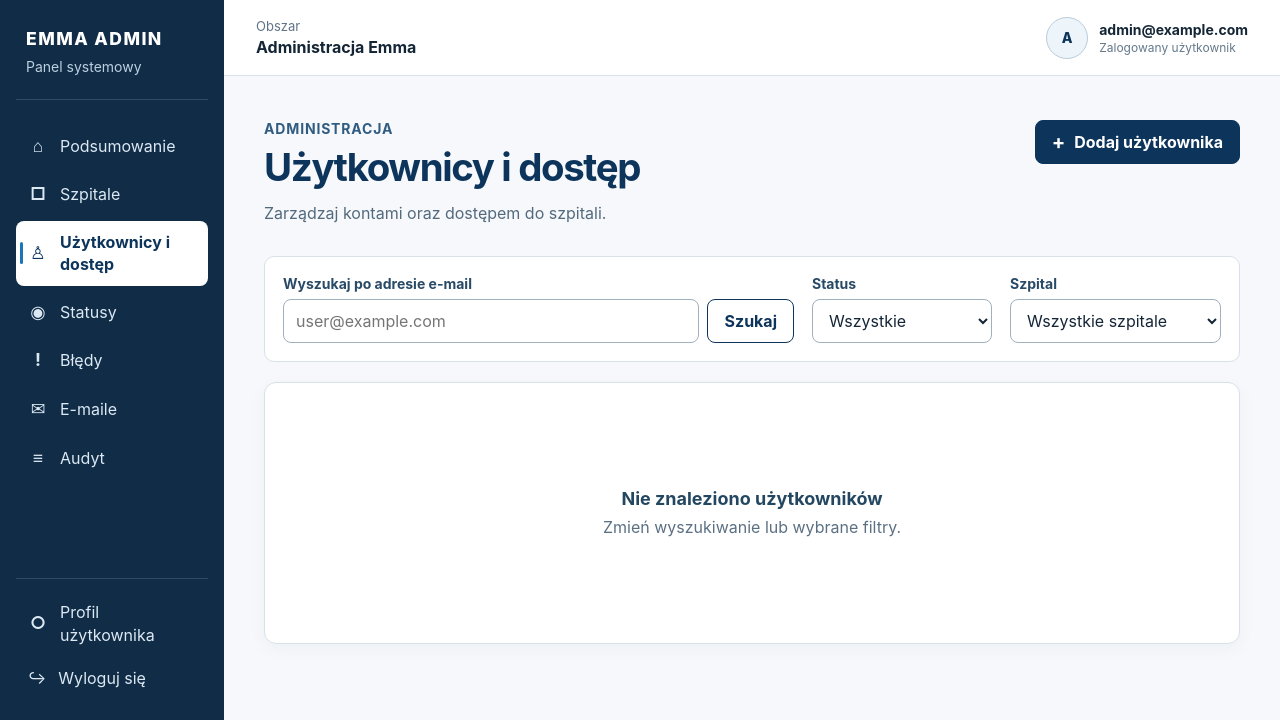
Test: Admin users page › creates a normalized user and refreshes the list
Expected: the text "Nie znaleziono użytkowników" is shown, [621,488,883,510]
Click the button "+ Dodaj użytkownika" at (1137, 142), box [1035,120,1240,164]
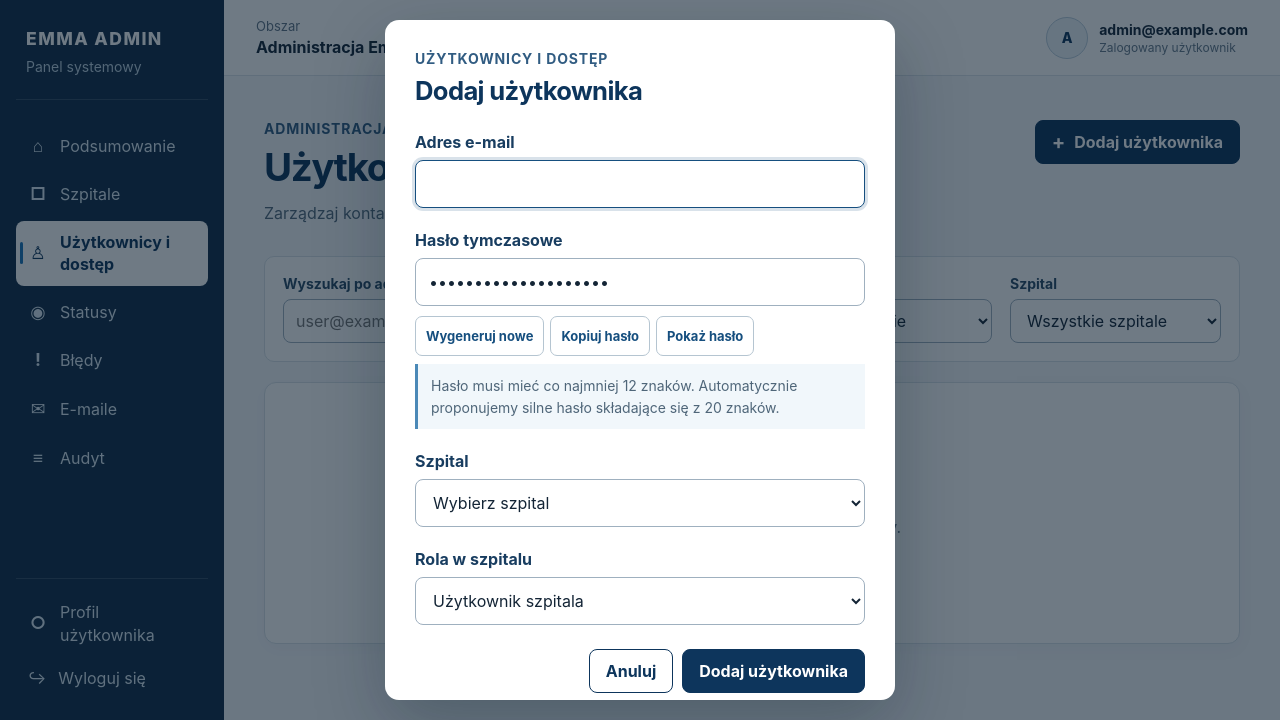
Expected: the text "Hasło musi mieć co najmniej 12 znaków" is shown, [431,377,797,416]
Type " USER@Example.COM " into the field labelled "Adres e-mail" at (640, 184), box [415,160,865,208]
Type "temporary-password" into the password field labelled "Hasło tymczasowe" at (640, 282), box [415,258,865,306]
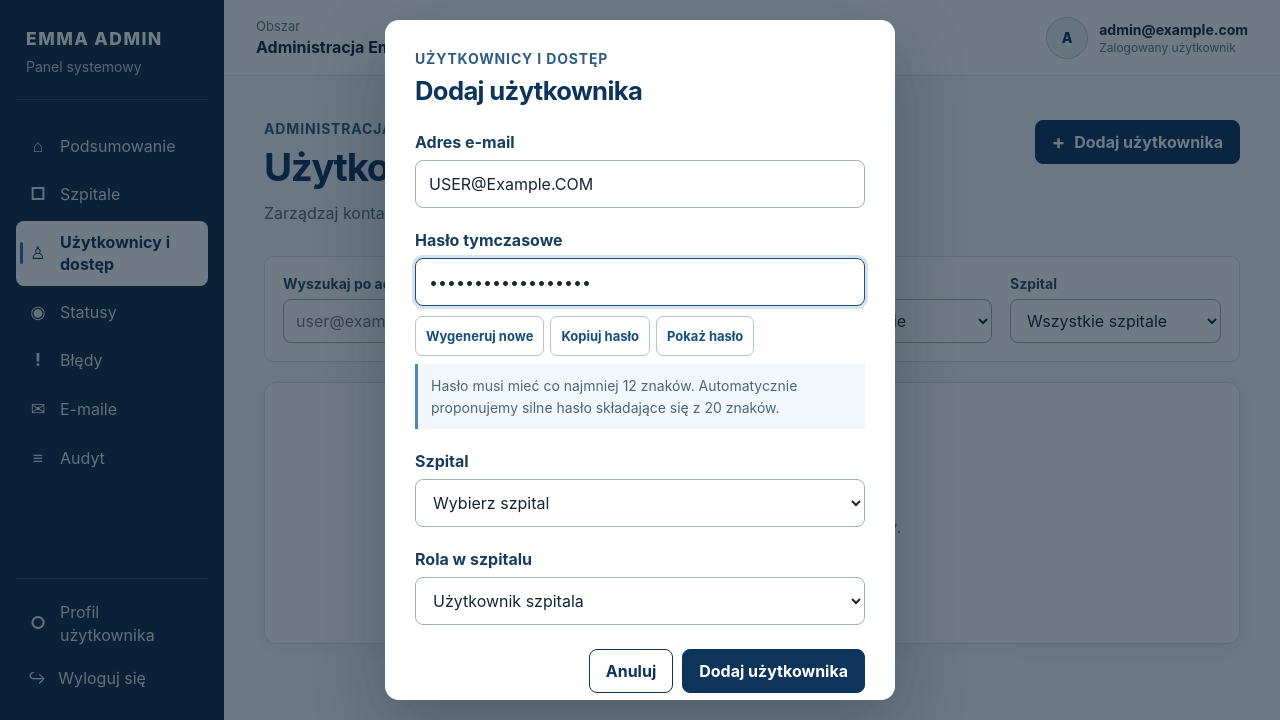
Select "Szpital Testowy" in the dropdown labelled "Szpital" at (640, 503), box [415,479,865,527]
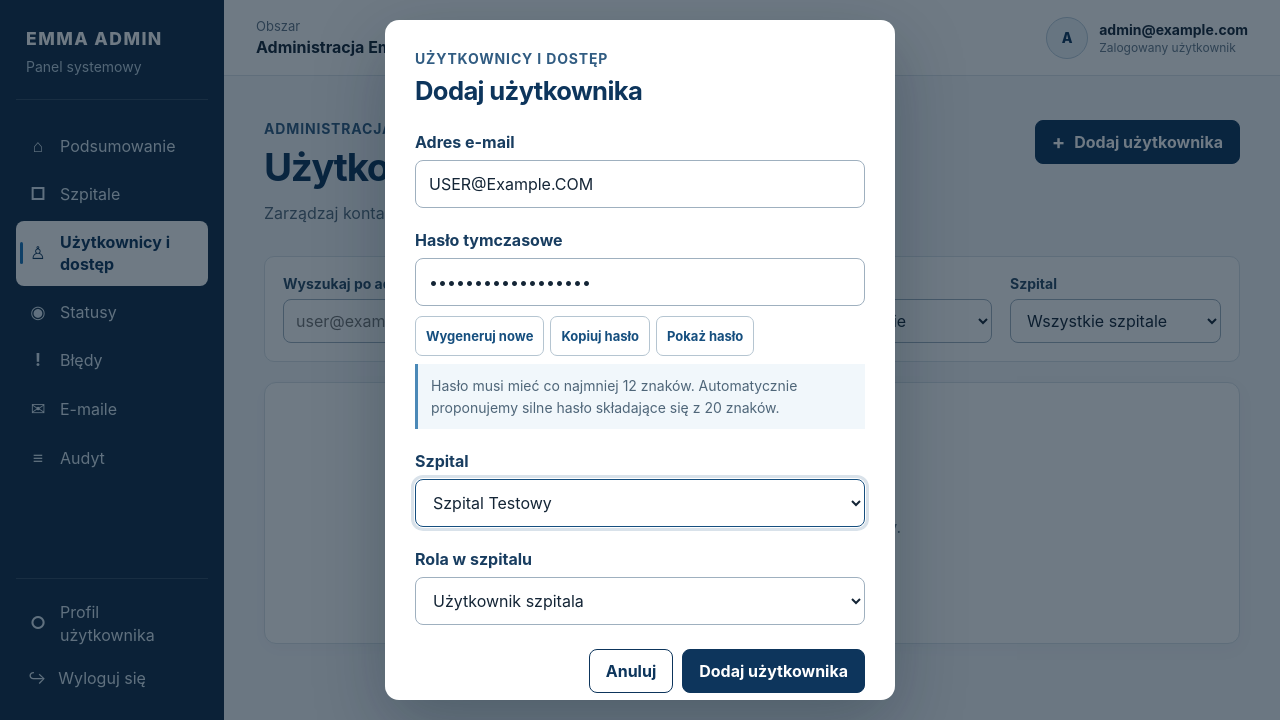
Select "Użytkownik szpitala" in the dropdown labelled "Rola w szpitalu" at (640, 601), box [415,577,865,625]
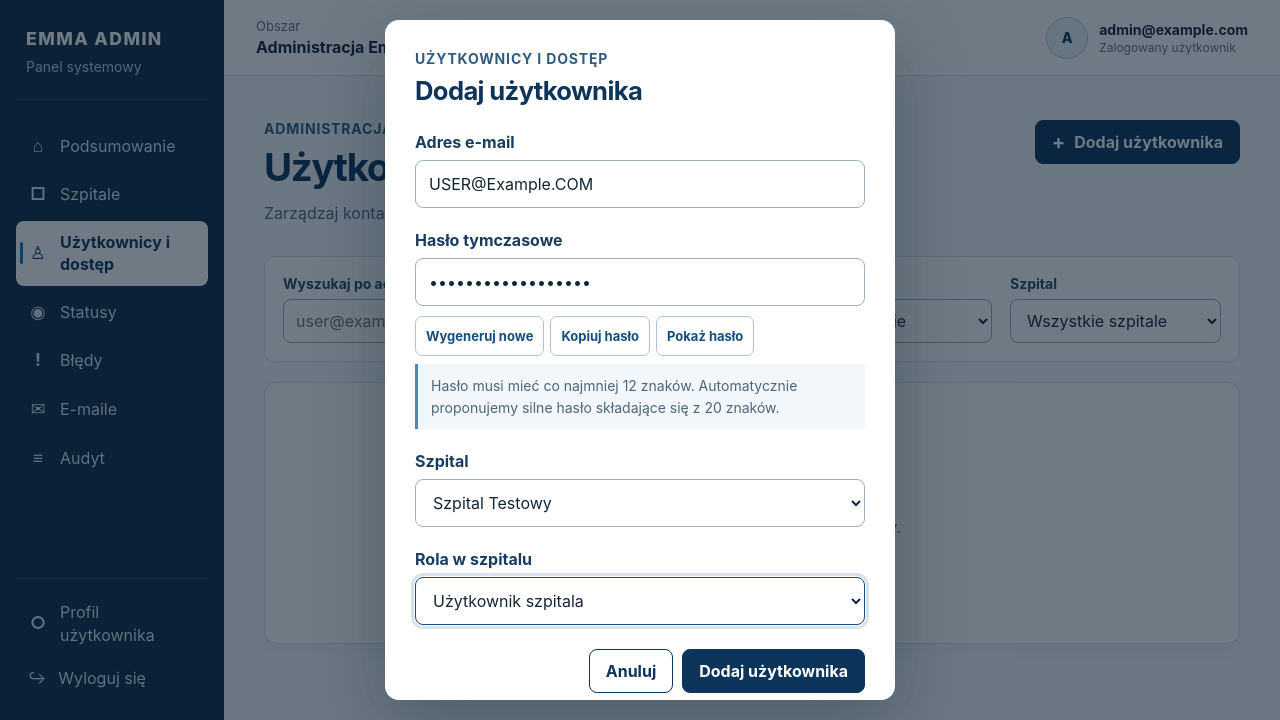
Click the button "Dodaj użytkownika" at (774, 671), box [682,649,865,693]
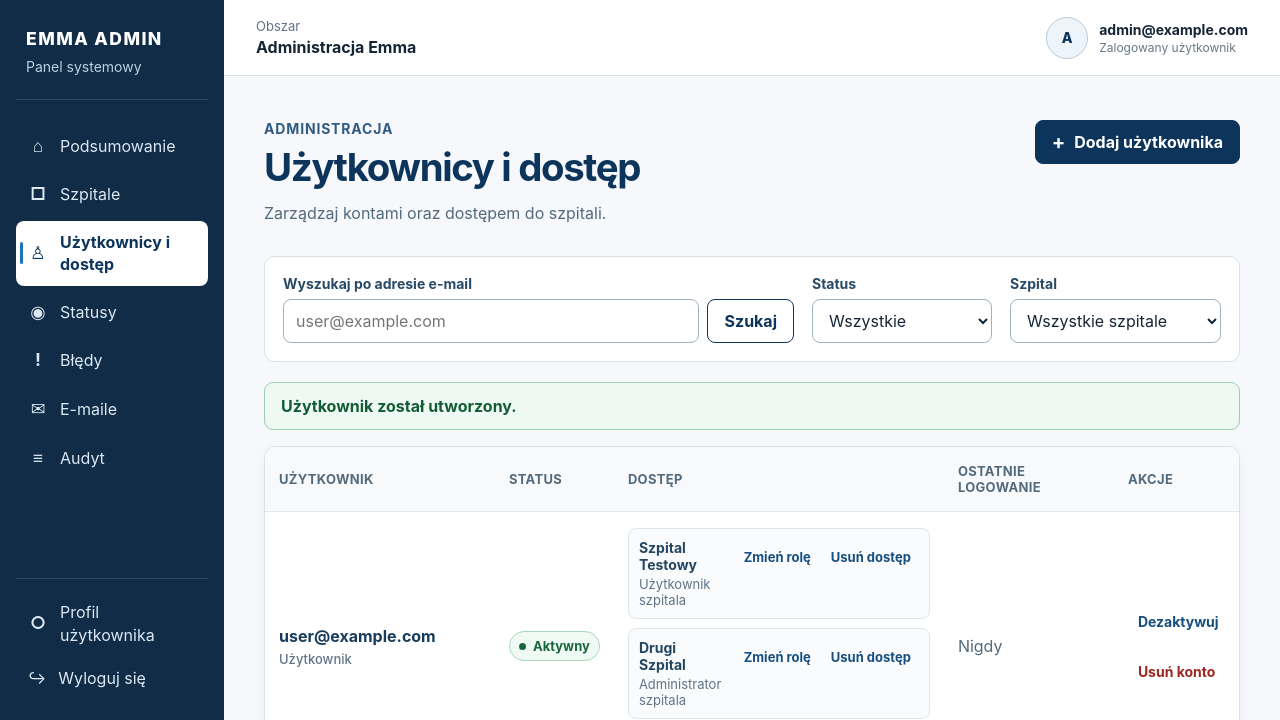
Expected: the text "user@example.com" is shown, [279,626,436,646]
Expected: the message reads "Użytkownik został utworzony.", [281,396,517,416]
Click the button "+ Dodaj użytkownika" at (1137, 142), box [1035,120,1240,164]
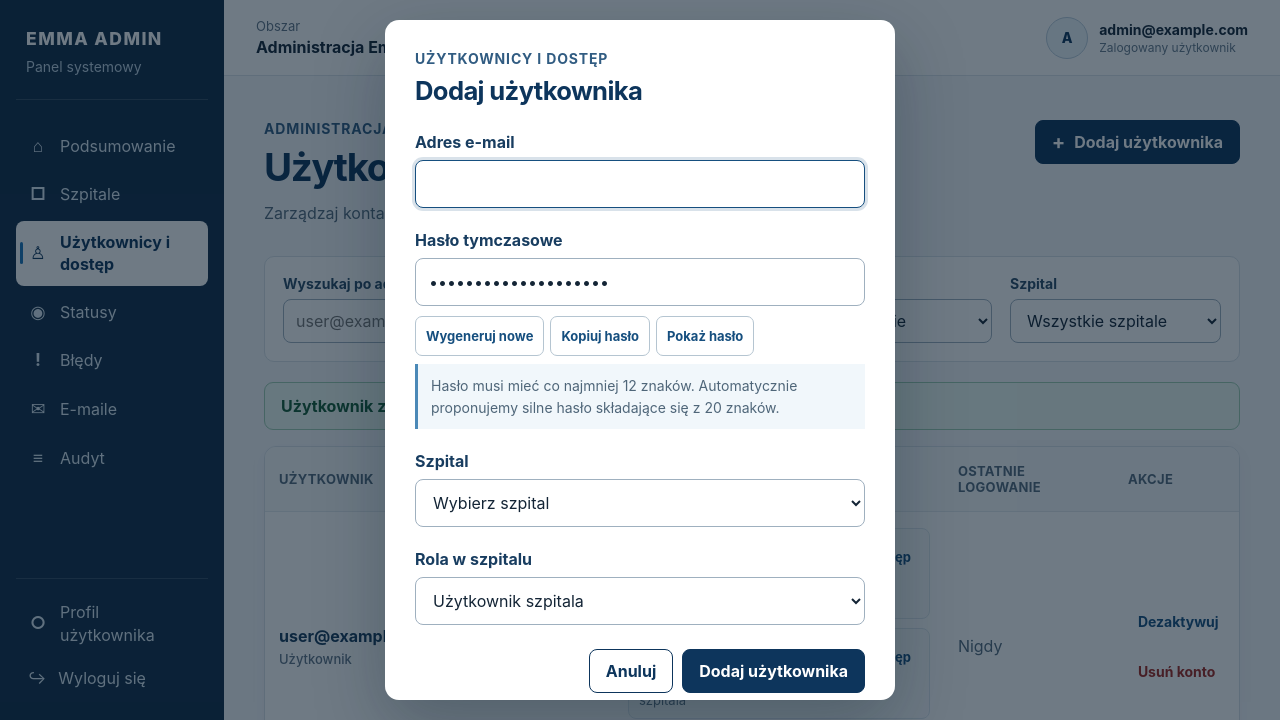
Expected: the field labelled "Adres e-mail" is empty, [415,160,865,208]
Expected: the dropdown labelled "Szpital" shows "Wybierz szpital", [415,479,865,527]
